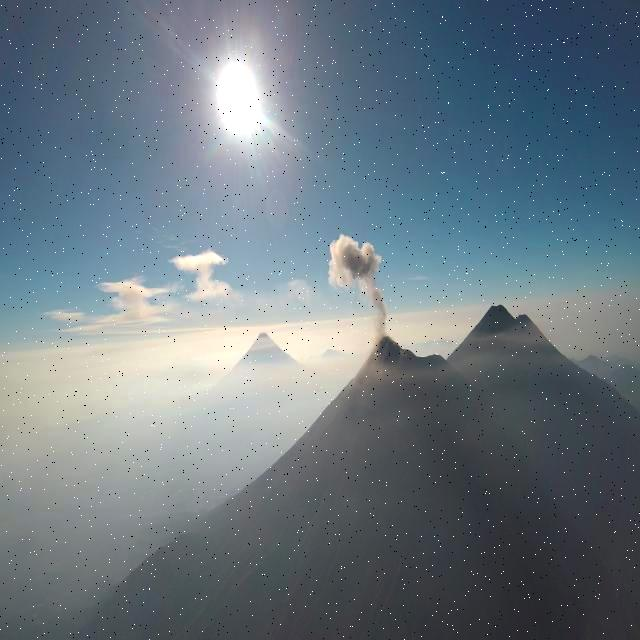Plume: (326, 230, 386, 336)
Summit: (365, 334, 445, 368)
